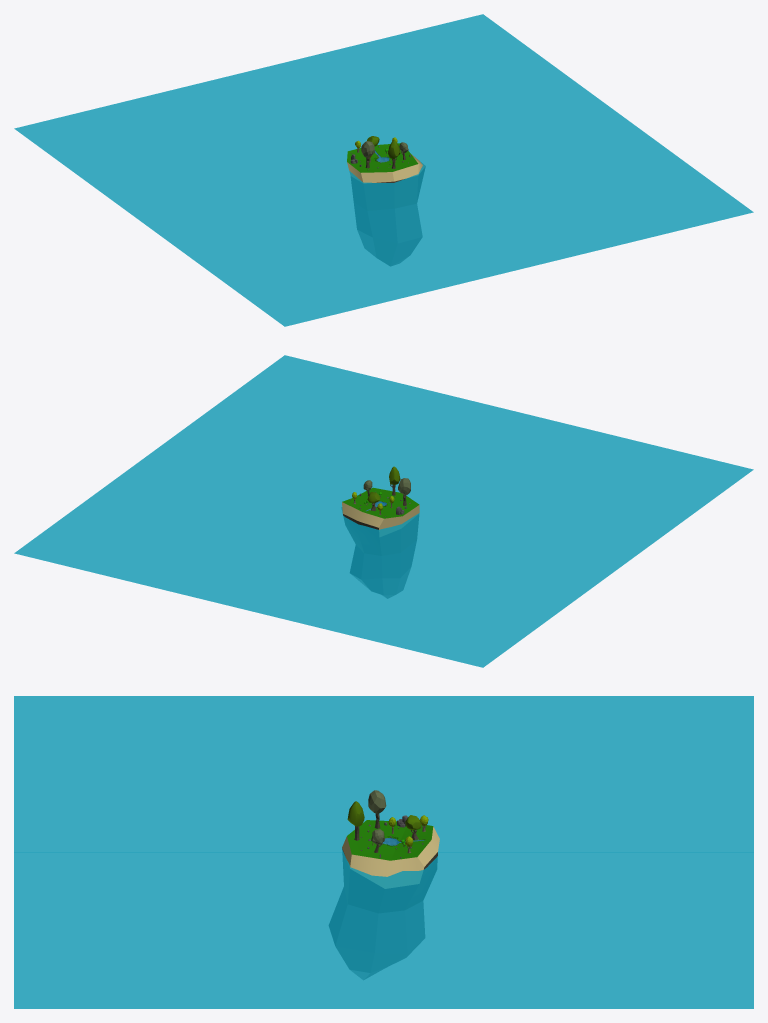
Rendered from Остров.fbx.
The picture shows the model from 3 angles, top to bottom: view 1: azimuth 30°, elevation 25°; view 2: azimuth 150°, elevation 25°; view 3: azimuth 270°, elevation 25°; orthographic projection. The views are drawn at different scales.
Parts seen in each view (by area): view 1: pPlane1, pCube9; view 2: pPlane1, pCube9; view 3: pPlane1, pCube9.
Boxes of the visible parts, <box> form: pPlane1: <box>14,14,753,326</box>; pCube9: <box>347,143,425,265</box>; pPlane1: <box>14,355,753,667</box>; pCube9: <box>342,487,419,598</box>; pPlane1: <box>14,696,753,1008</box>; pCube9: <box>329,820,439,979</box>.
Bounding box in the file's own units: 180 × 46.59 × 180.
